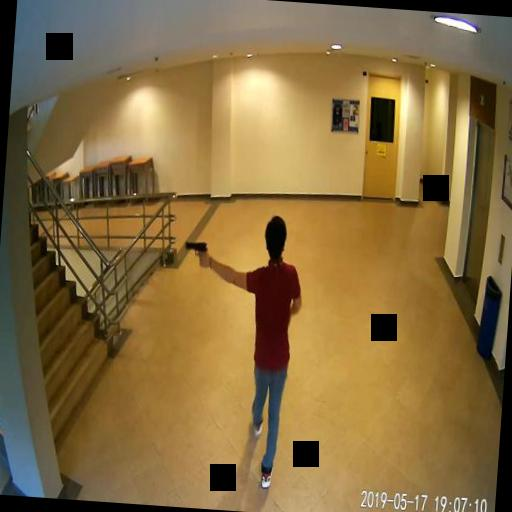Handgun: (182, 238, 207, 266)
